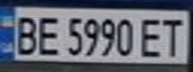0: (115, 15, 139, 57)
5: (63, 14, 84, 56)
9: (97, 15, 118, 57), (81, 15, 100, 57)
B: (9, 12, 42, 56)
E: (33, 12, 63, 57), (136, 15, 166, 58)
T: (157, 15, 190, 57)
